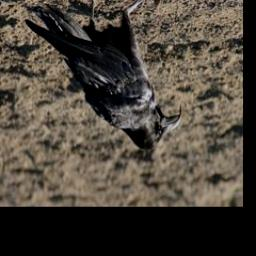Crow: (22, 0, 182, 154)
